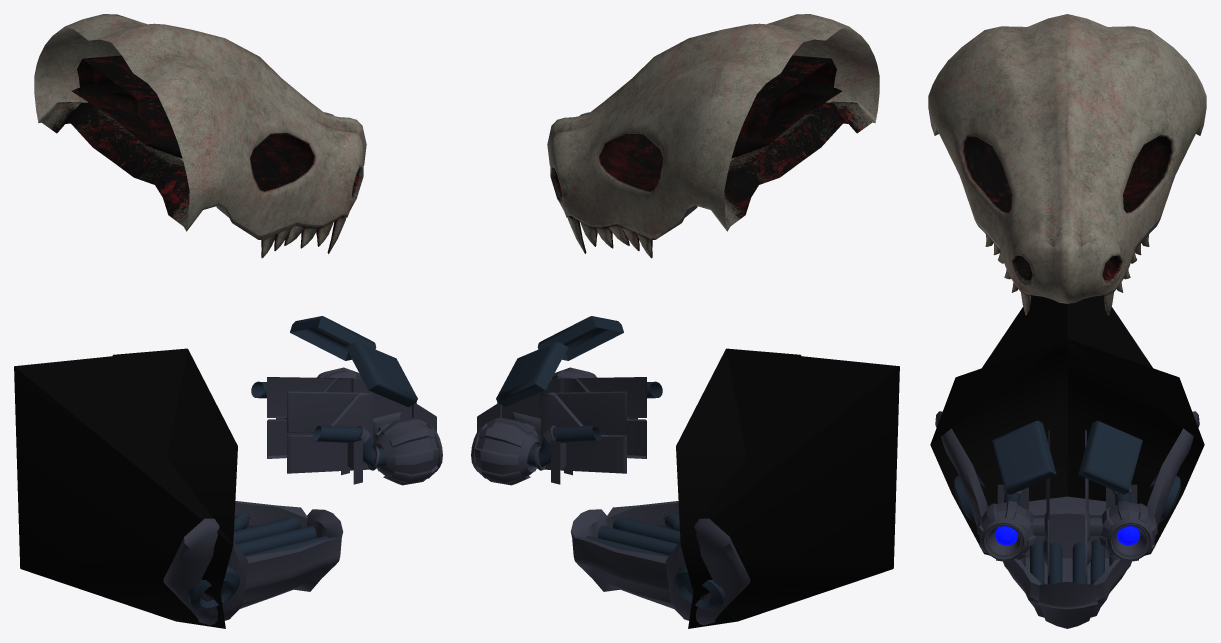
The model's file is SkullMode_Explodedl.fbx.
3 views of the same model, side by side, from view 1: azimuth 30°, elevation 25°; view 2: azimuth 150°, elevation 25°; view 3: azimuth 270°, elevation 25° (orthographic). The views are drawn at different scales.
Parts seen in each view (by area): view 1: Skull_yaw, Skull_top, Skull_yaw.001; view 2: Skull_yaw, Skull_top, Skull_yaw.001; view 3: Skull_top, Skull_yaw, Skull_yaw.001.
Boxes of the visible parts, x1,y1,x2,y2 form: Skull_yaw: (14, 348, 343, 628); Skull_top: (34, 14, 366, 258); Skull_yaw.001: (251, 316, 442, 485); Skull_yaw: (570, 348, 899, 628); Skull_top: (547, 14, 879, 258); Skull_yaw.001: (471, 316, 662, 485); Skull_top: (928, 14, 1206, 315); Skull_yaw: (930, 295, 1204, 628); Skull_yaw.001: (977, 420, 1157, 575).
Size of the model in its own units: 28.19 by 18.39 by 39.26.
Materials: 1 (1 with a texture image).
